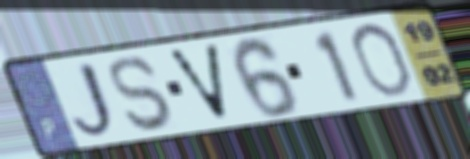1: (312, 26, 362, 105)
6: (228, 33, 302, 120)
J: (68, 58, 124, 142)
O: (347, 19, 415, 99)
S: (106, 53, 179, 133)
V: (162, 41, 232, 124)
